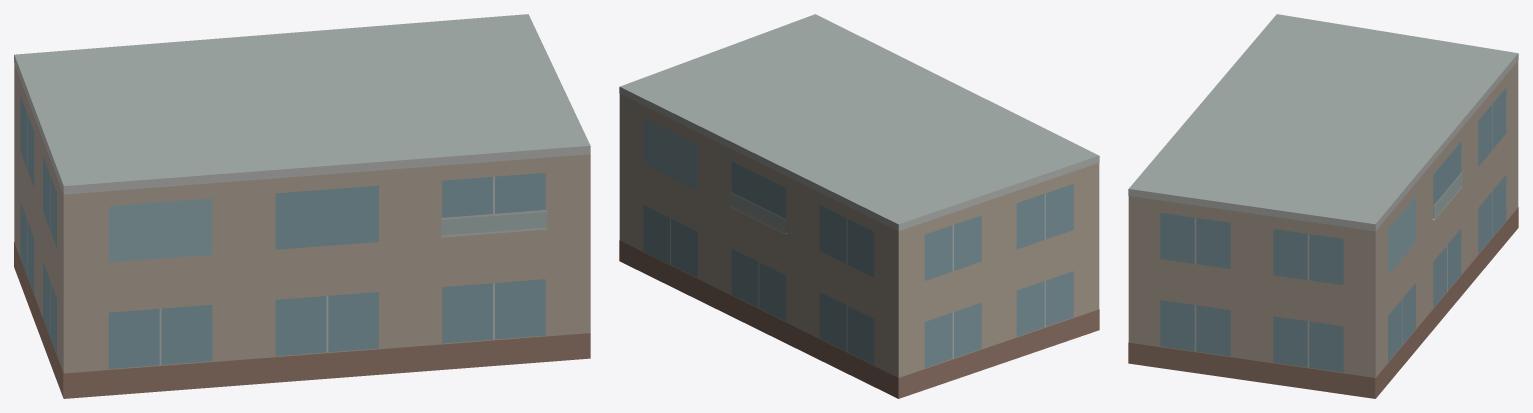
File: survey-upis-32579347.glb
3 renders of one model, left to right at view 1: azimuth 30°, elevation 25°; view 2: azimuth 150°, elevation 25°; view 3: azimuth 270°, elevation 25°, orthographic. The views are drawn at different scales.
Visible parts, largest first — view 1: survey-upis-32579347.tmp; view 2: survey-upis-32579347.tmp; view 3: survey-upis-32579347.tmp.
Boxes of the visible parts, x1,y1,x2,y2 form: survey-upis-32579347.tmp: [14, 14, 590, 398]; survey-upis-32579347.tmp: [619, 14, 1099, 398]; survey-upis-32579347.tmp: [1128, 14, 1518, 398].
Bounding box in the file's own units: 15.76 × 6.1 × 12.36.
